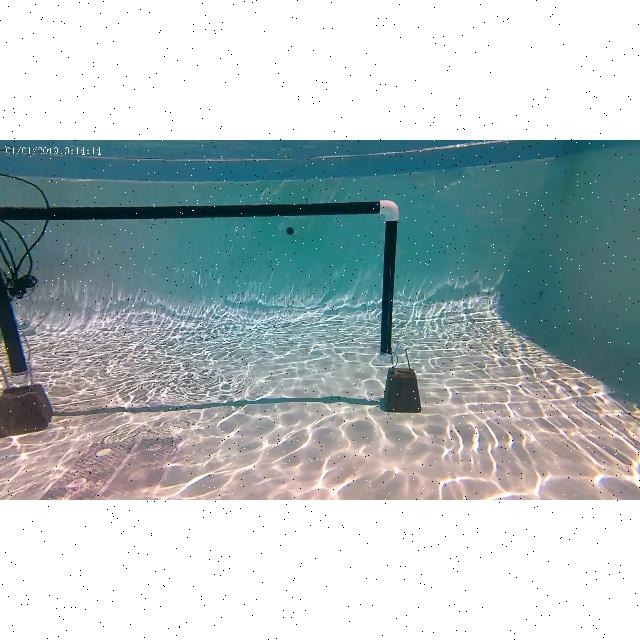prequal gate: (1, 200, 400, 364)
prequal gate leg r: (366, 200, 402, 362)
